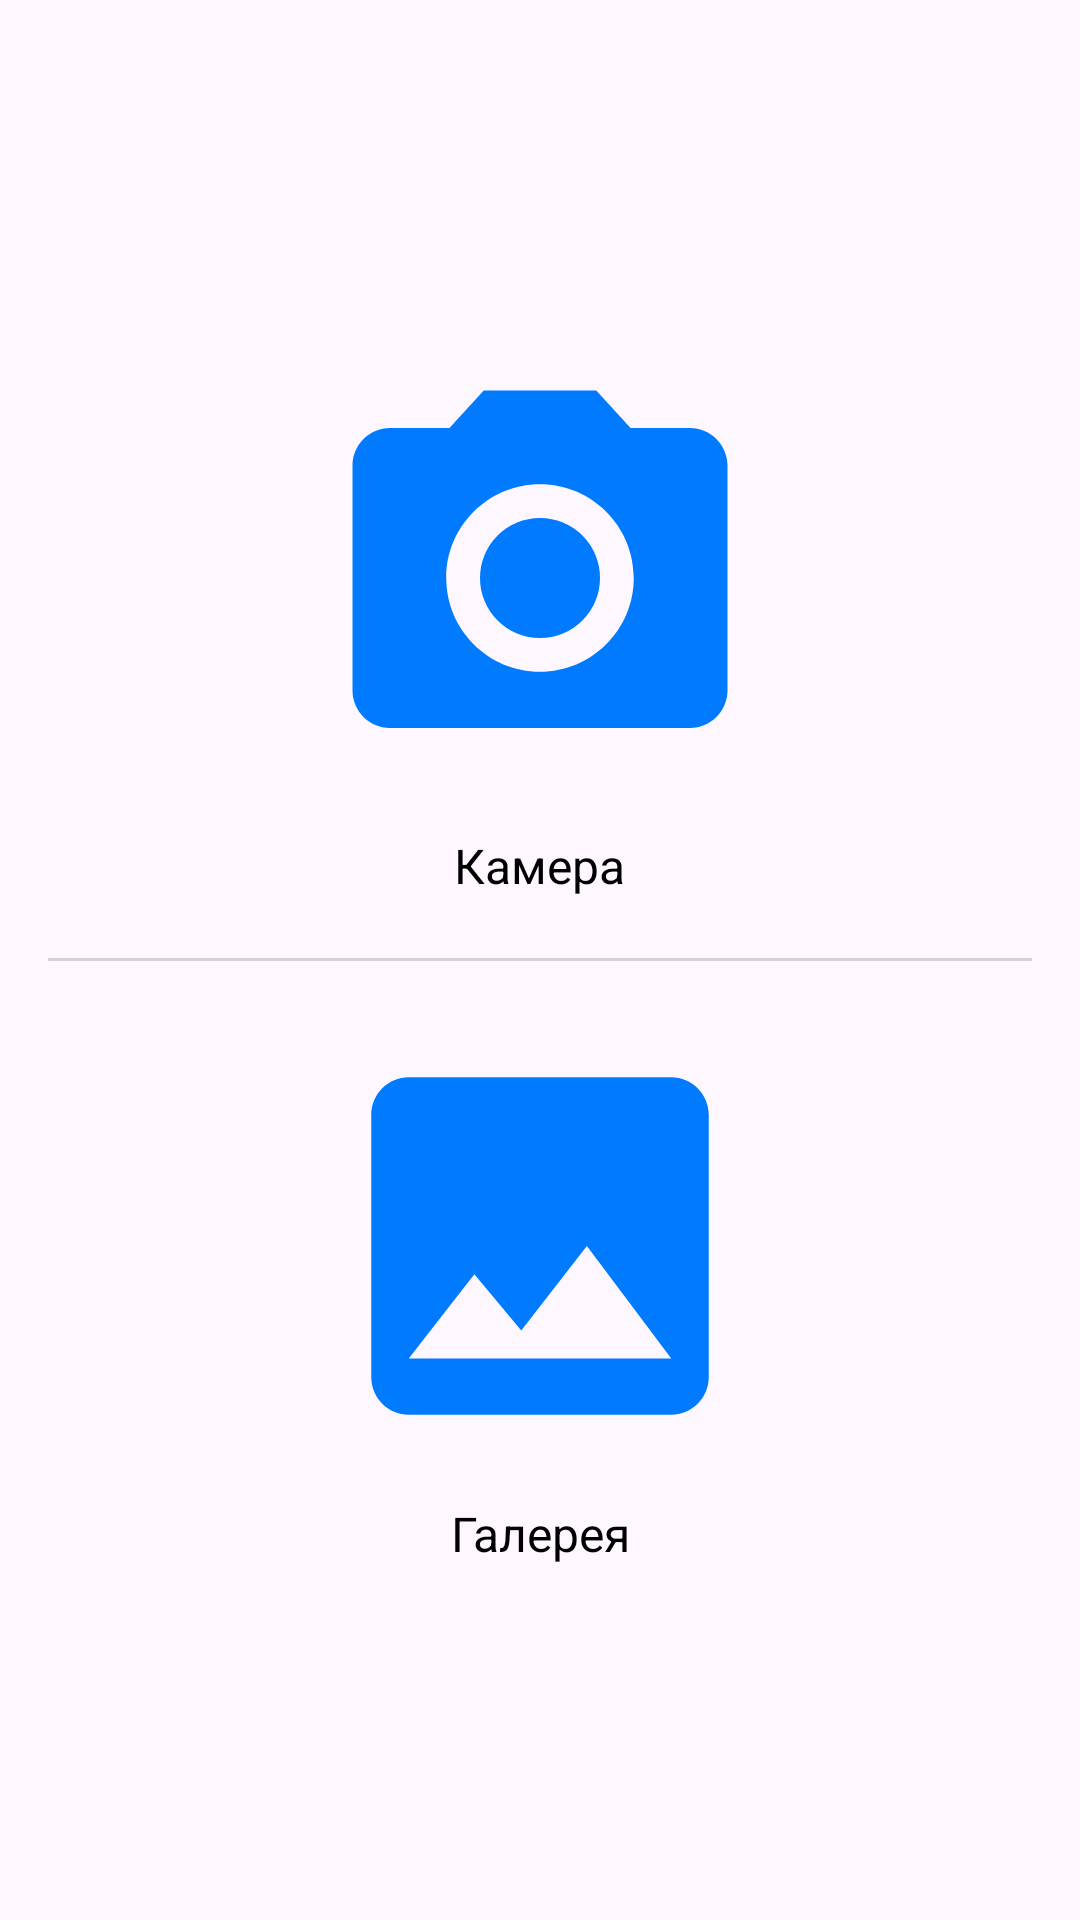

Locate icon controls on the screen. Image size 1080×1920, boxes as (x1, y1, x2, y2).
Выбрать фото из галереи: (371, 1077, 709, 1415)
